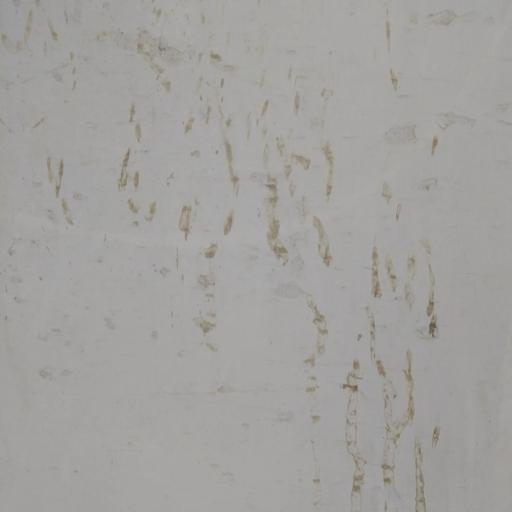stain: (5, 0, 512, 512)
